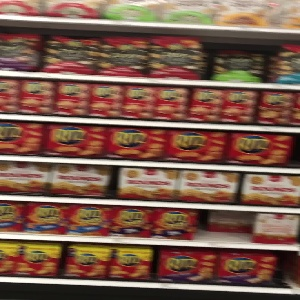void: (199, 209, 255, 242)
